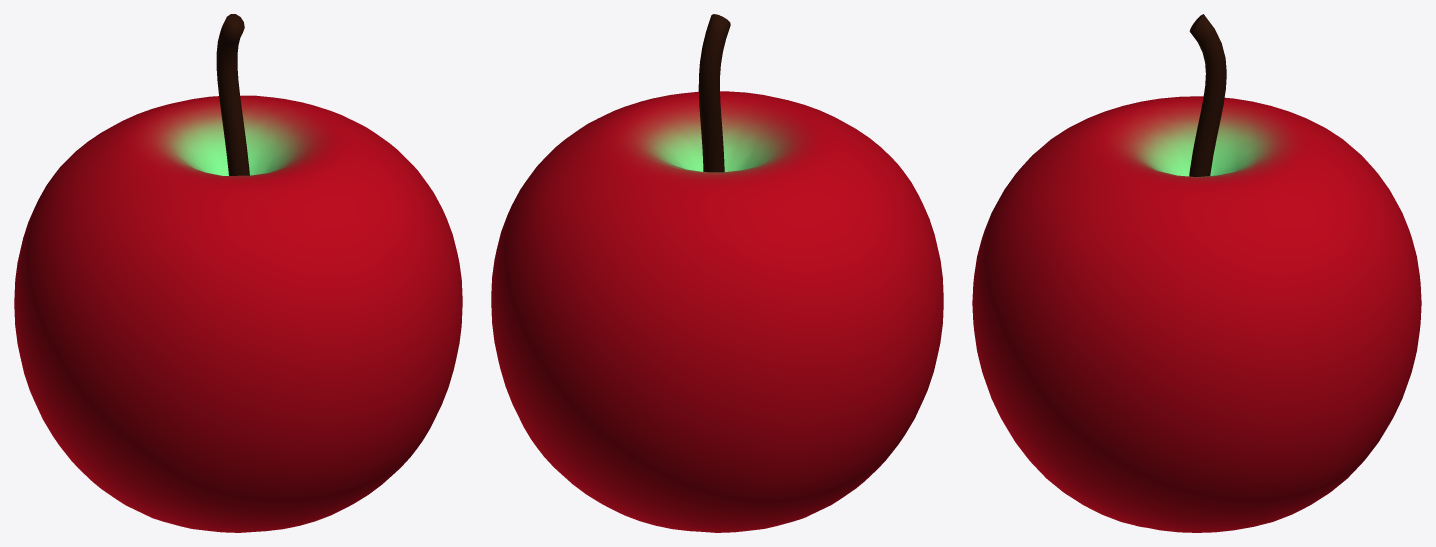
The model's file is apple.fbx.
3 renders of one model, left to right at view 1: azimuth 30°, elevation 25°; view 2: azimuth 150°, elevation 25°; view 3: azimuth 270°, elevation 25°, orthographic.
Parts seen in each view (by area): view 1: apple; view 2: apple; view 3: apple.
Part boxes in pixels (<box>): apple: <box>14,14,462,532</box>; apple: <box>491,14,943,532</box>; apple: <box>972,14,1421,532</box>.
Bounding box in the file's own units: 192 × 223 × 192.
2 materials, 1 textured.
